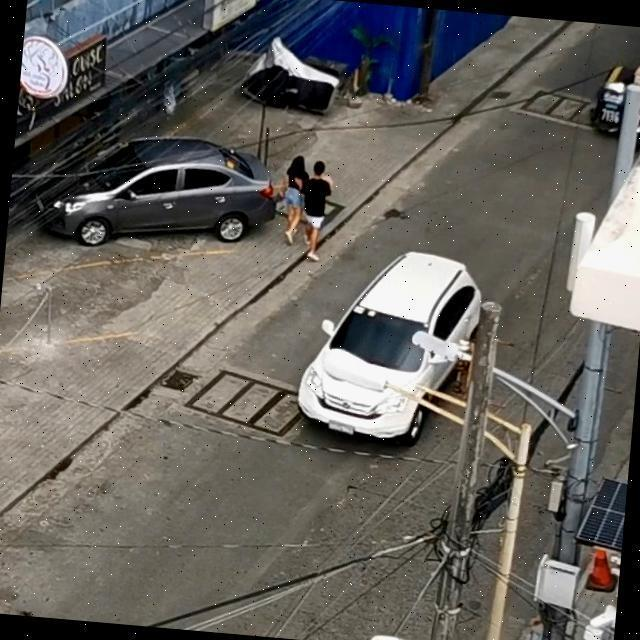Tricycle: (590, 47, 640, 142)
